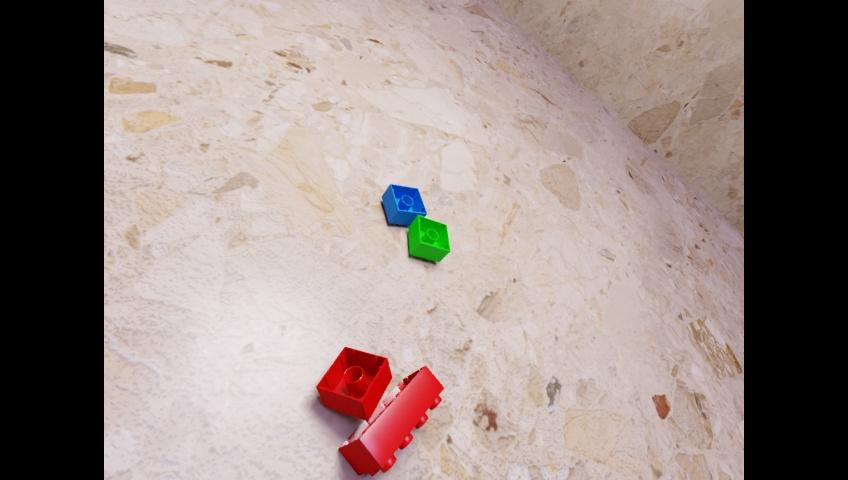2x2_blue: (381, 183, 426, 225)
2x2_green: (408, 214, 449, 261)
2x2_red: (316, 345, 391, 421)
4x2_red: (338, 364, 443, 476)
